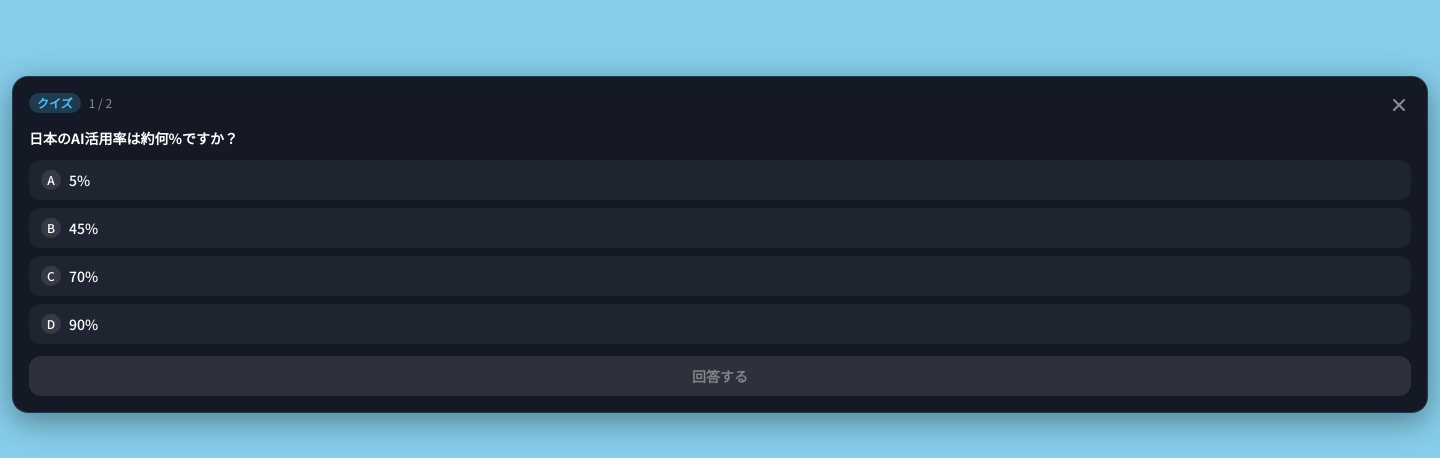
Test: QuizOverlay - completion › shows score display after completing all questions
This screenshot has width=1440, height=458.
What coordinates should you click on to do the following:
click the text "45%"
I would click on:
 (84, 228)
Its box is 69,218 -> 98,238.
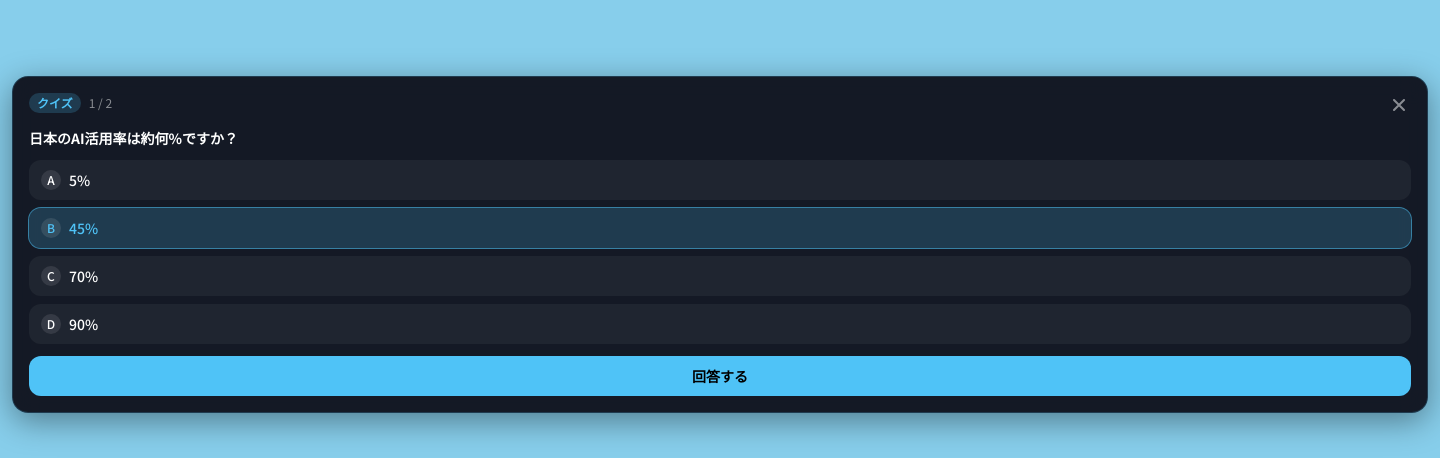
What coordinates should you click on to do the following:
click the button "回答する"
I would click on:
 (720, 376)
Its box is 29,356 -> 1411,396.
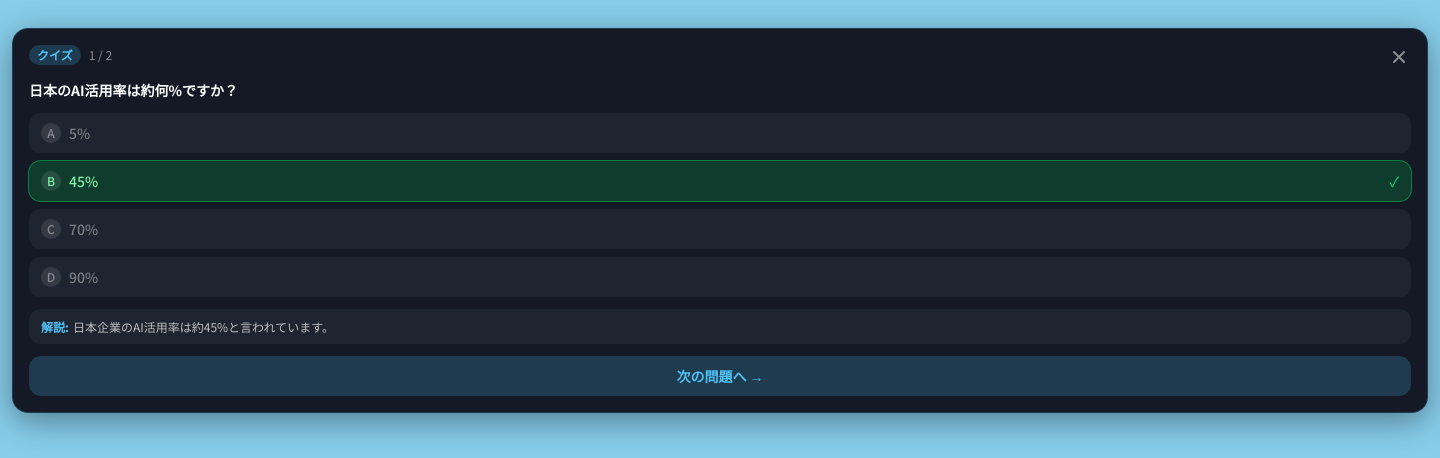
What coordinates should you click on to do the following:
click the button "次の問題へ →"
I would click on:
 (720, 376)
Its box is 29,356 -> 1411,396.
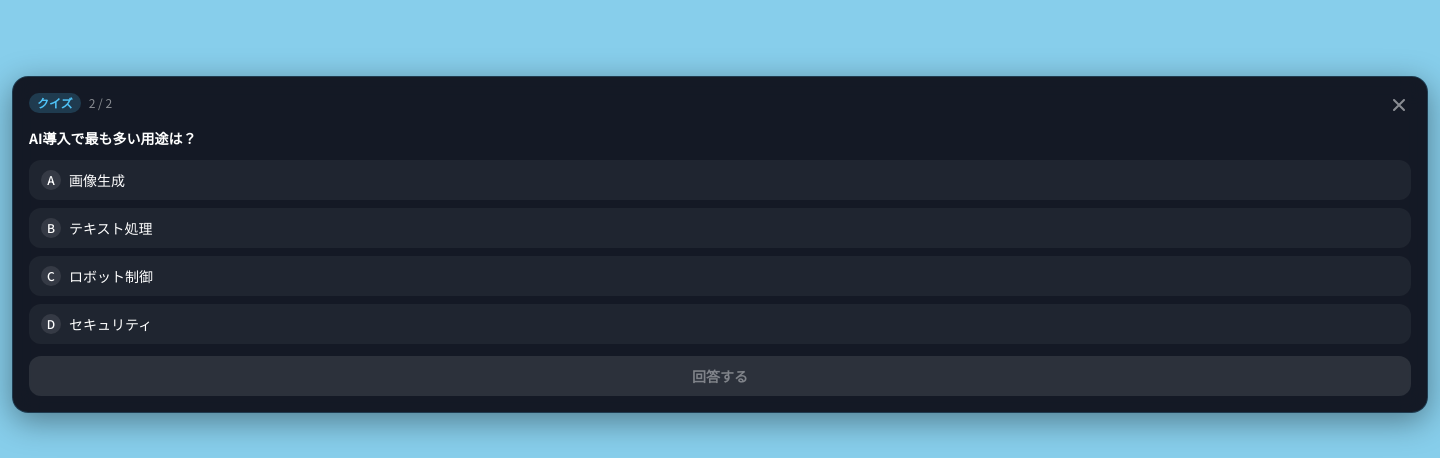
What coordinates should you click on to do the following:
click the text "テキスト処理"
I would click on:
 (111, 228)
Its box is 69,218 -> 153,238.
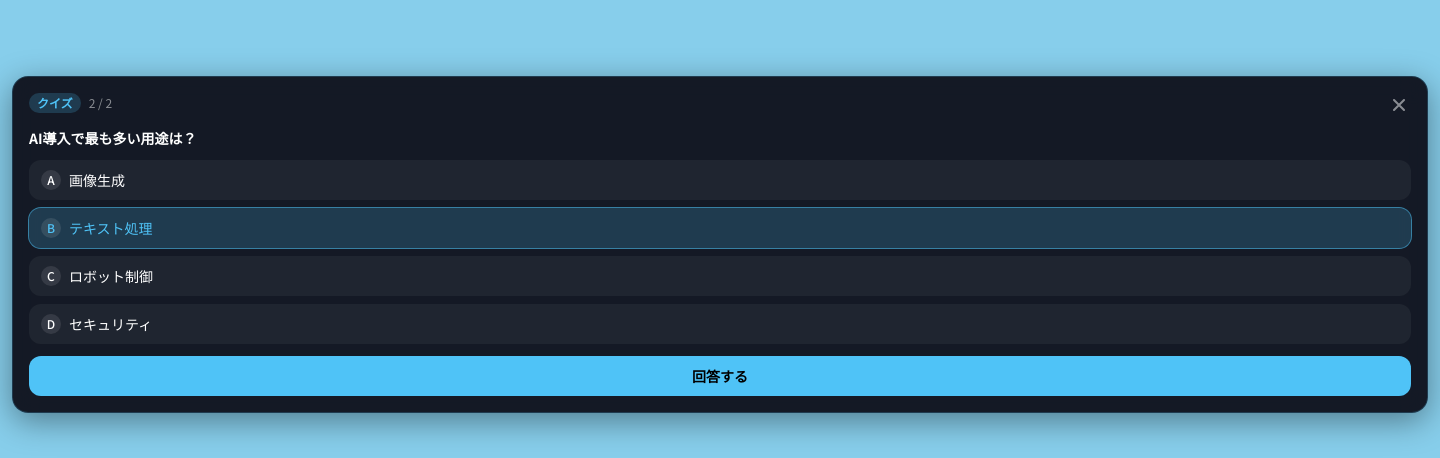
What coordinates should you click on to do the following:
click the button "回答する"
I would click on:
 (720, 376)
Its box is 29,356 -> 1411,396.
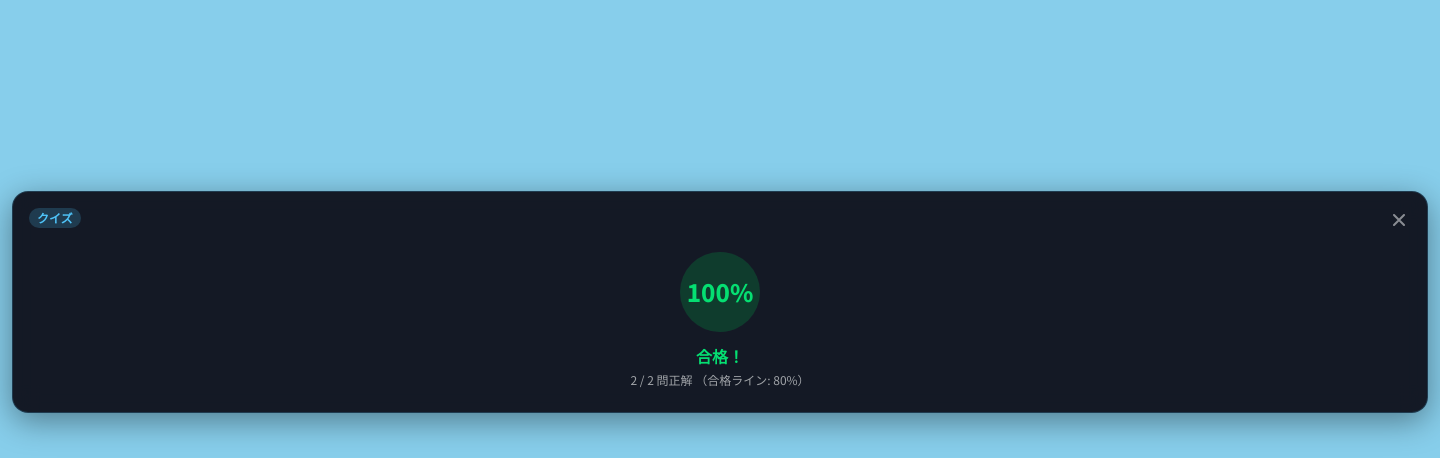
Result: the text "合格！" is shown at 696,344 -> 744,368
